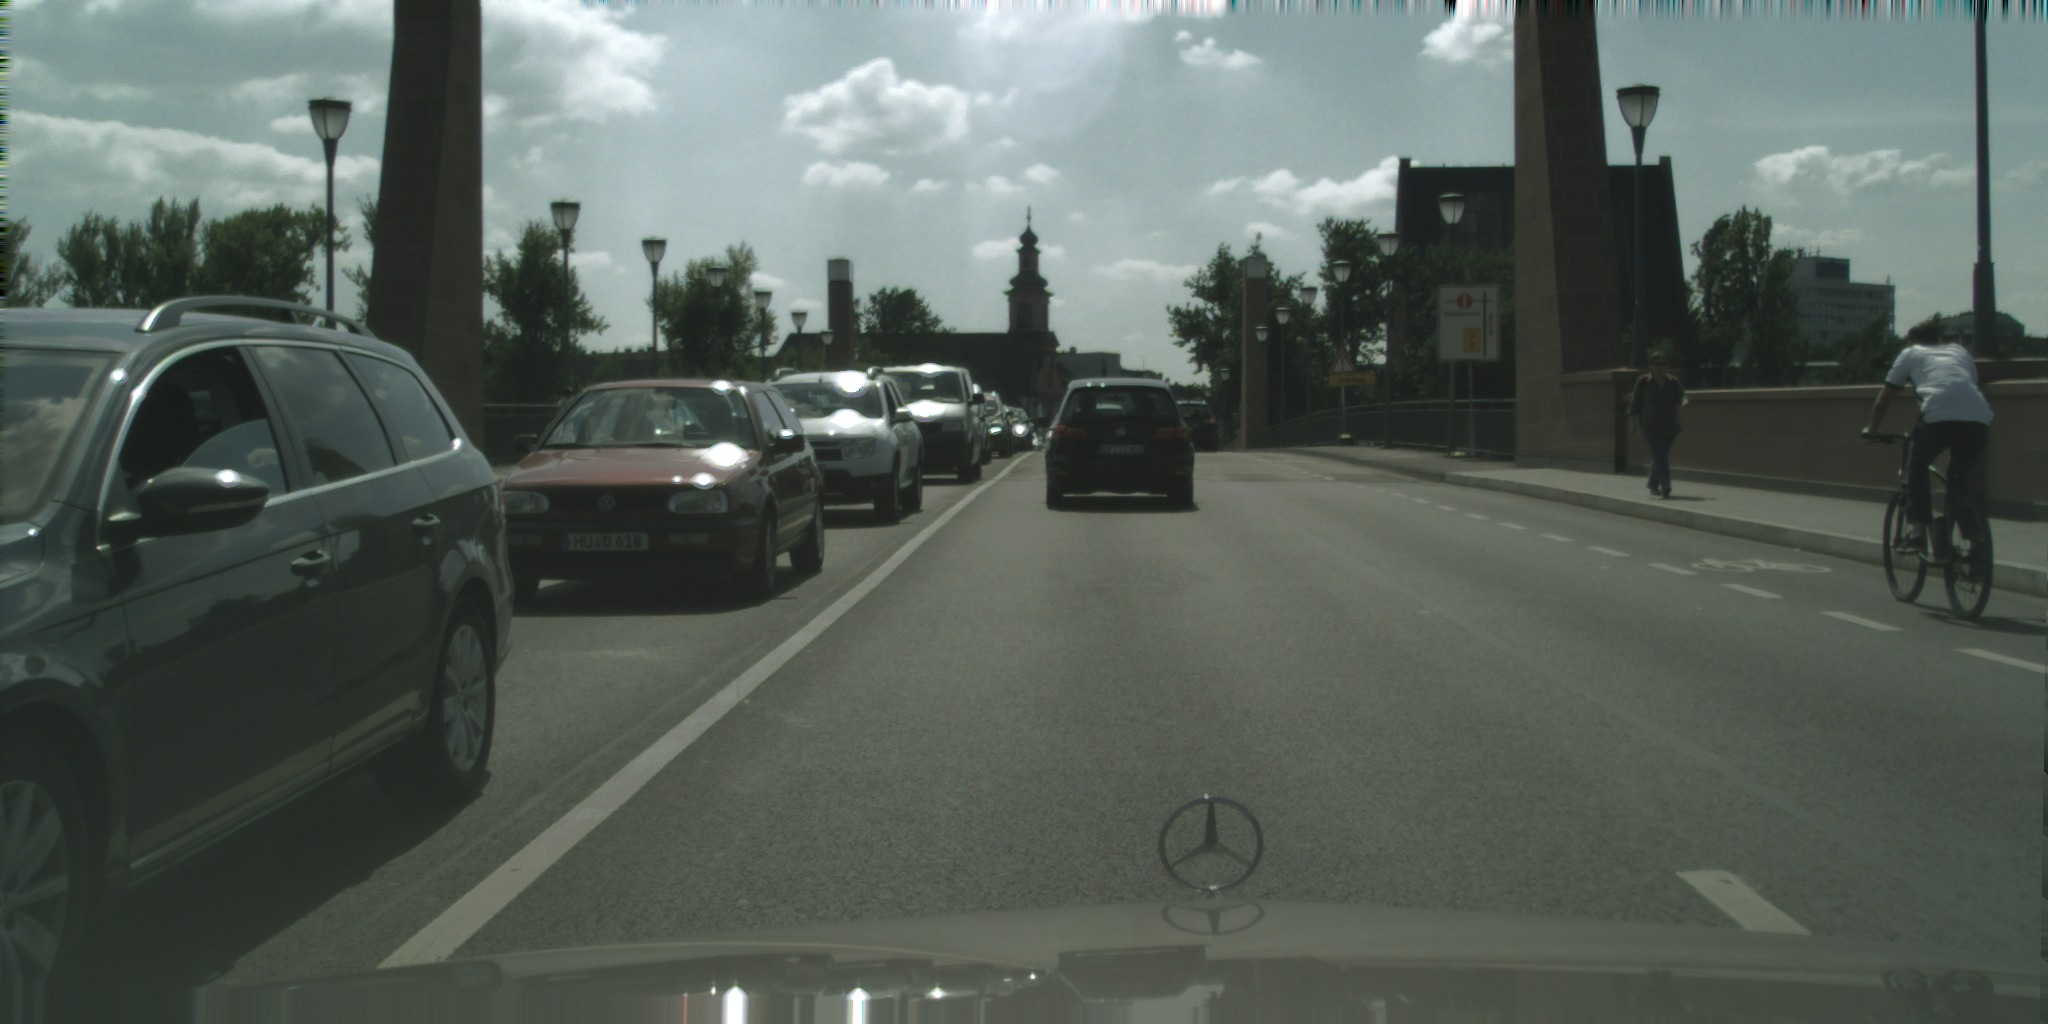bicycle: (1861, 430, 1995, 623)
car: (0, 294, 516, 1023), (485, 378, 825, 606), (735, 366, 925, 526), (1033, 377, 1196, 512), (857, 362, 986, 486), (873, 381, 992, 466), (922, 391, 1014, 461), (1153, 399, 1220, 453), (976, 403, 1035, 452)
person: (1625, 350, 1690, 499), (554, 386, 584, 425)
rider: (1862, 319, 1996, 553)
